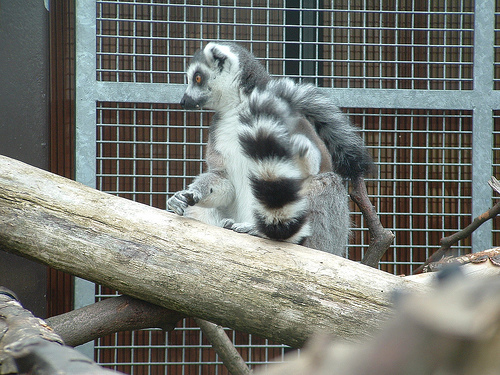cat: (165, 36, 367, 259)
